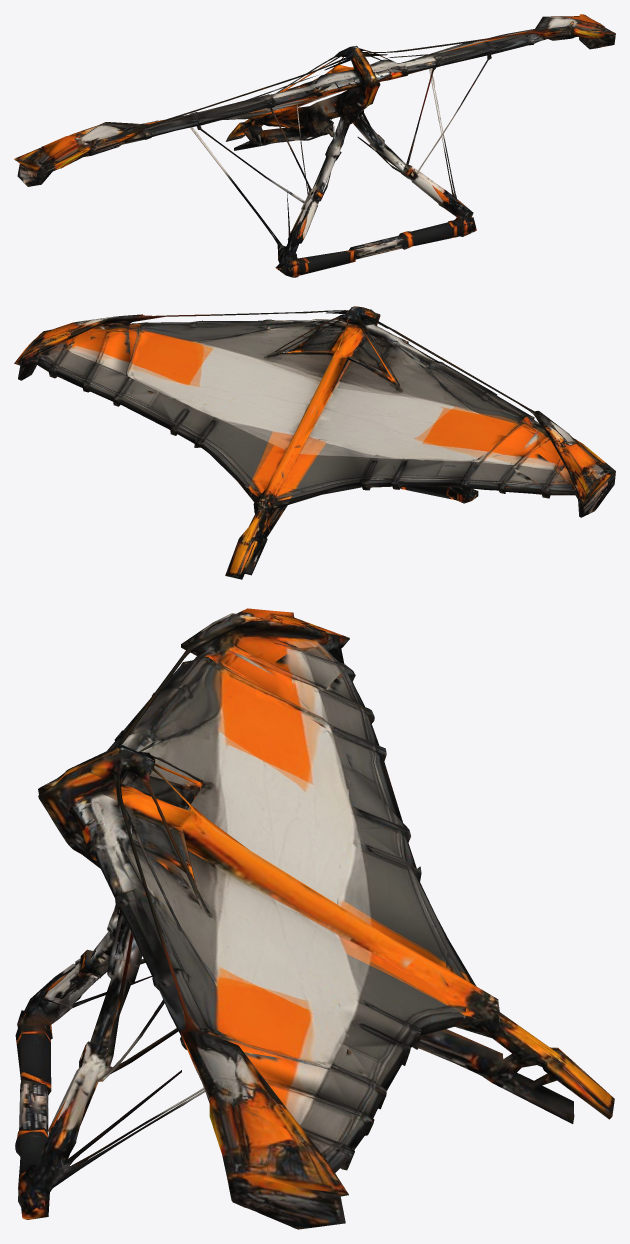
Rendered from hang-glider.glb.
3 views of the same model, one above another, from view 1: azimuth 30°, elevation 25°; view 2: azimuth 150°, elevation 25°; view 3: azimuth 270°, elevation 25° (orthographic). The views are drawn at different scales.
Parts seen in each view (by area): view 1: node_0; view 2: node_0; view 3: node_0.
Part boxes in pixels (x1,y1,x2,y2): node_0: (14,14,615,277); node_0: (14,306,615,579); node_0: (15,608,614,1229).
Size of the model in its own units: 1.19 by 0.3811 by 0.5376.
Materials: 1 (1 with a texture image).
